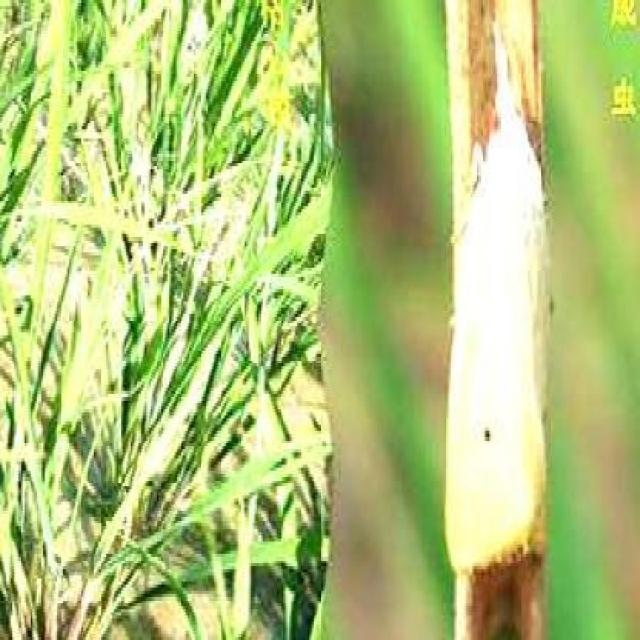stem-borer: (442, 19, 556, 578)
